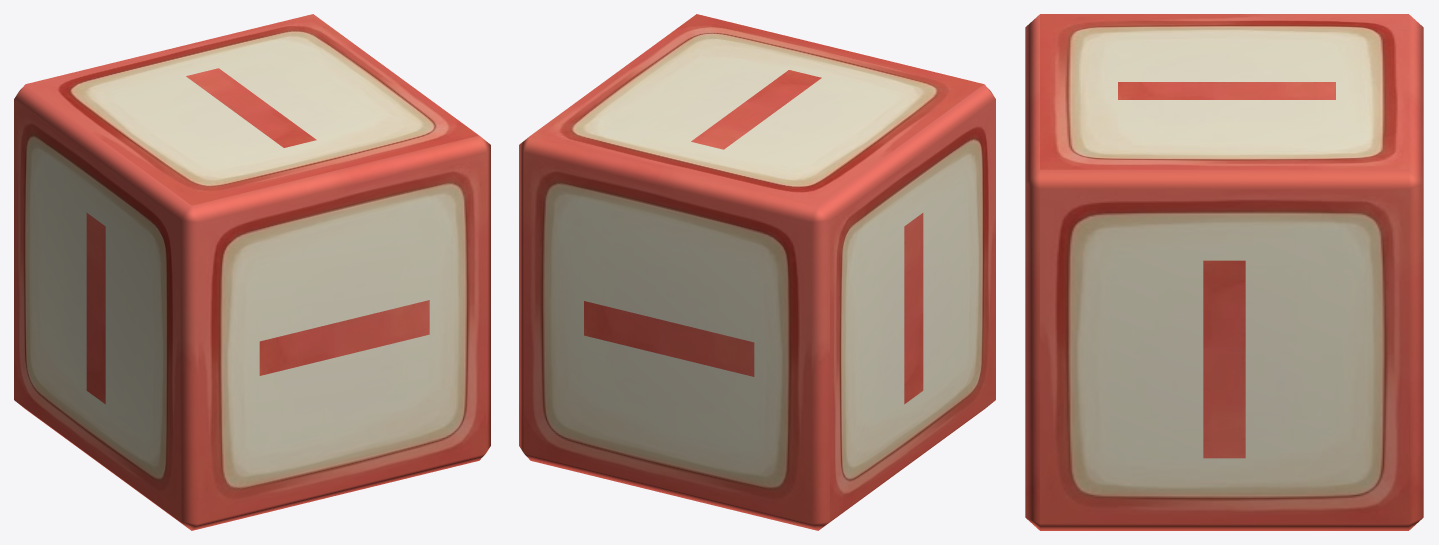
File: CubeI.glb
The picture shows the model from 3 angles, left to right: view 1: azimuth 30°, elevation 25°; view 2: azimuth 150°, elevation 25°; view 3: azimuth 270°, elevation 25°; orthographic projection. The views are drawn at different scales.
Parts seen in each view (by area): view 1: CubeI; view 2: CubeI; view 3: CubeI.
Boxes of the visible parts, x1=… form: CubeI: x1=14, y1=14, x2=490, y2=530; CubeI: x1=519, y1=14, x2=995, y2=530; CubeI: x1=1025, y1=14, x2=1423, y2=530.
Size of what is drawn, in the model's own units: 0.513 by 0.513 by 0.513.
1 material, 1 textured.
